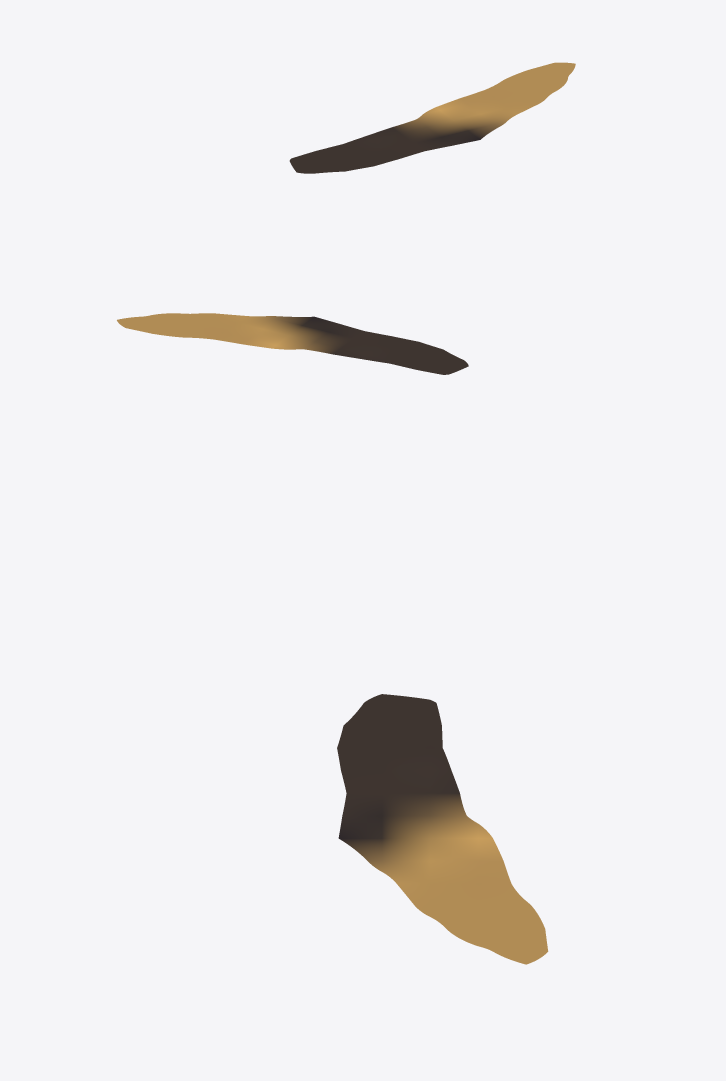
Rendered from HuBian_NighYezi4_fbx.FBX.
The picture shows the model from 3 angles, top to bottom: view 1: azimuth 30°, elevation 25°; view 2: azimuth 150°, elevation 25°; view 3: azimuth 270°, elevation 25°; orthographic projection. The views are drawn at different scales.
Parts seen in each view (by area): view 1: Object071; view 2: Object071; view 3: Object071.
Boxes of the visible parts, x1=… form: Object071: x1=289, y1=62, x2=575, y2=173; Object071: x1=117, y1=313, x2=468, y2=374; Object071: x1=337, y1=694, x2=548, y2=964.
Bounding box in the file's own units: 0.1888 × 4.08e-09 × 0.0932.
1 material, 1 textured.
